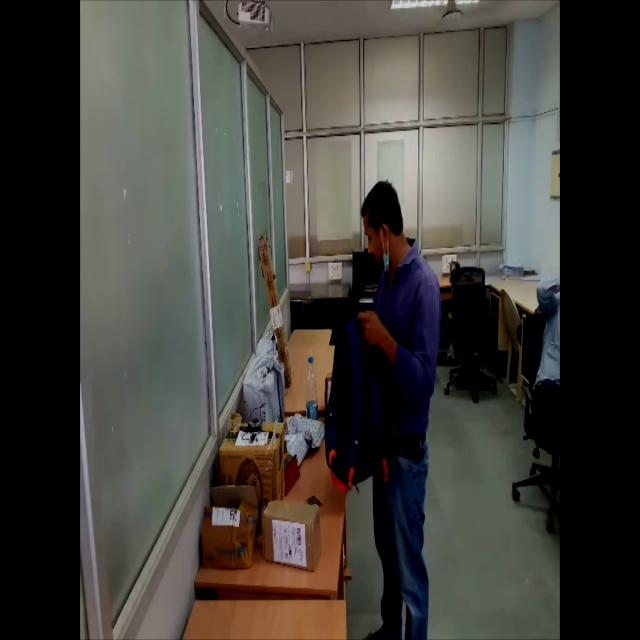shoplifting: (322, 164, 448, 640)
